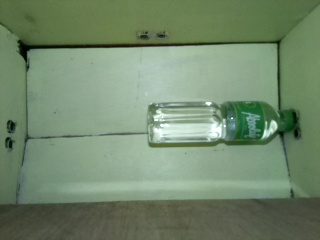bottle: (147, 100, 296, 148)
